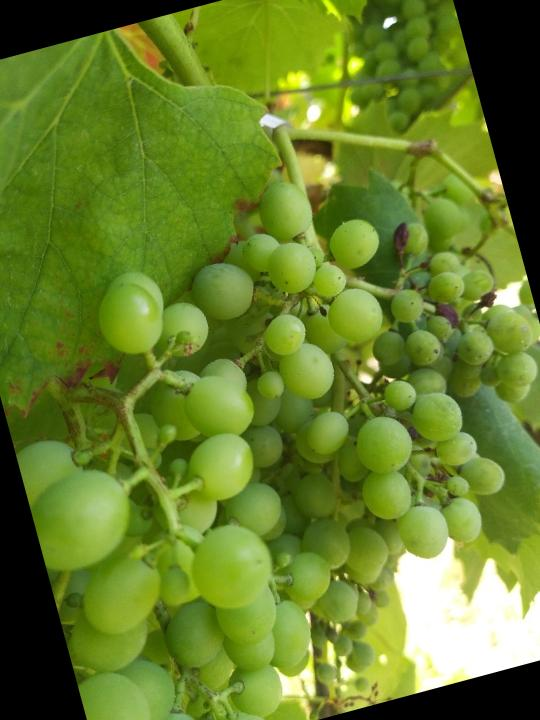grape: (0, 248, 360, 720), (233, 132, 540, 583)
